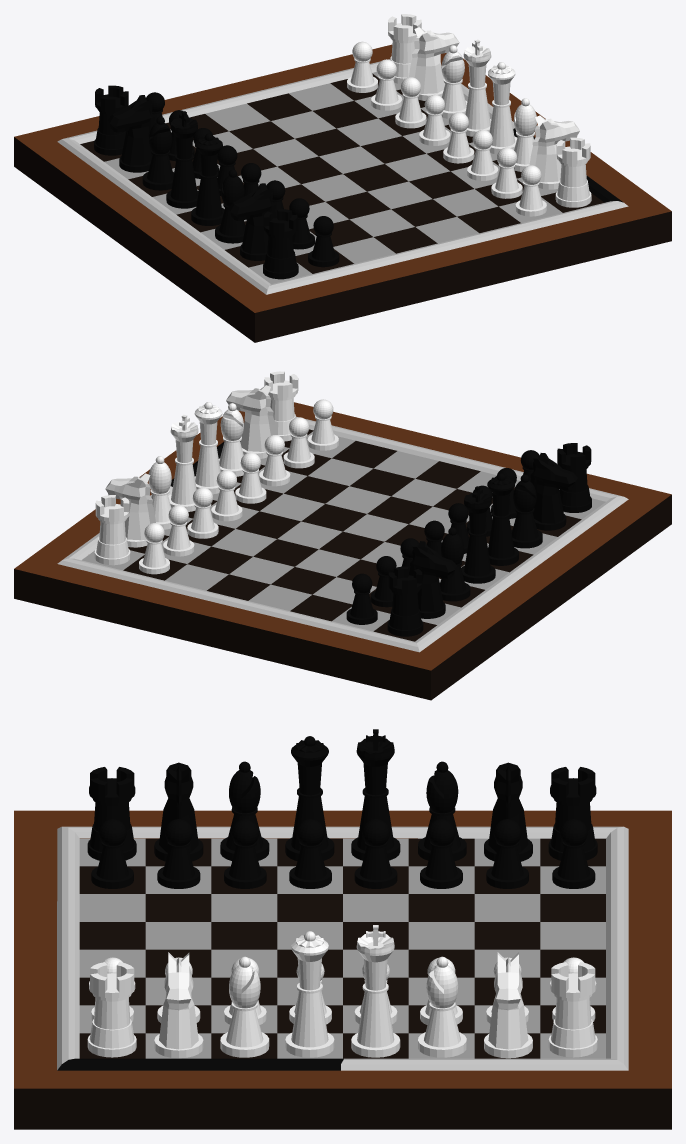
The model's file is complete_chessboard.obj.
3 views of the same model, one above another, from view 1: azimuth 30°, elevation 25°; view 2: azimuth 150°, elevation 25°; view 3: azimuth 270°, elevation 25° (orthographic). The views are drawn at different scales.
Parts seen in each view (by area): view 1: board, Cylinder.001, Cube.005, Cube.004, Cube.003, Base.028, Base.001, Base.024, Cube.001, Base.027, Base.004, Base.003 (+18 smaller); view 2: board, Cylinder.001, Cube.003, Cube.001, Base.028, Base.023, Base.014, Cube.005, Cube.004, Base.027, Base.004, Base.003 (+18 smaller); view 3: board, Cylinder.001, Base.004, Base.003, Base.001, Base.014, Cube.001, Cube.004, Base.002, Base.006, Base.028, Base.027 (+14 smaller).
Part boxes in pixels (x1,y1,x2,y2): board: (14,44,671,342); Cylinder.001: (57,59,628,294); Cube.005: (107,95,155,172); Cube.004: (409,27,459,100); Cube.003: (228,183,277,260); Base.028: (166,111,198,208); Base.001: (555,137,591,207); Base.024: (263,209,298,279); Cube.001: (529,115,579,189); Base.027: (191,133,224,225); Base.004: (463,39,491,136); Base.003: (488,62,517,154); board: (14,402,671,700); Cylinder.001: (57,416,628,652); Cube.003: (530,453,577,530); Cube.001: (226,385,276,458); Base.028: (461,486,495,583); Base.023: (387,566,423,636); Base.014: (94,495,130,565); Cube.005: (409,541,457,618); Cube.004: (105,473,155,547); Base.027: (487,473,518,565); Base.004: (168,414,198,511); Base.003: (194,402,222,494); board: (14,810,671,1129); Cylinder.001: (57,826,628,1070); Base.004: (351,925,400,1057); Base.003: (285,931,334,1057); Base.001: (87,962,136,1057); Base.014: (548,962,597,1057); Cube.001: (154,952,203,1058); Cube.004: (484,952,532,1058); Base.002: (220,956,269,1057); Base.006: (418,956,466,1057); Base.028: (351,729,400,860); Base.027: (285,736,334,860).
Bounding box in the file's own units: 26.81 × 7.29 × 26.81.
